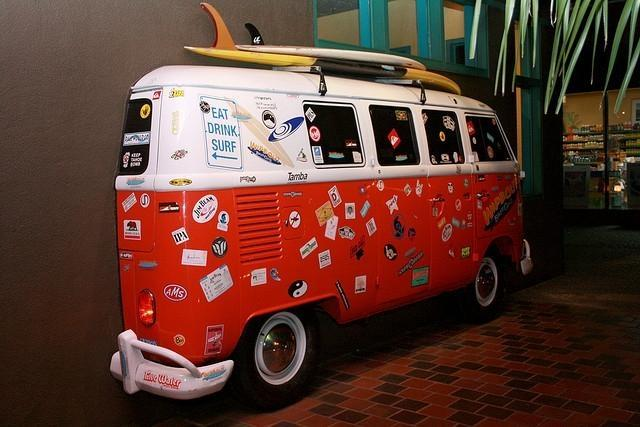bus: (110, 63, 534, 404)
